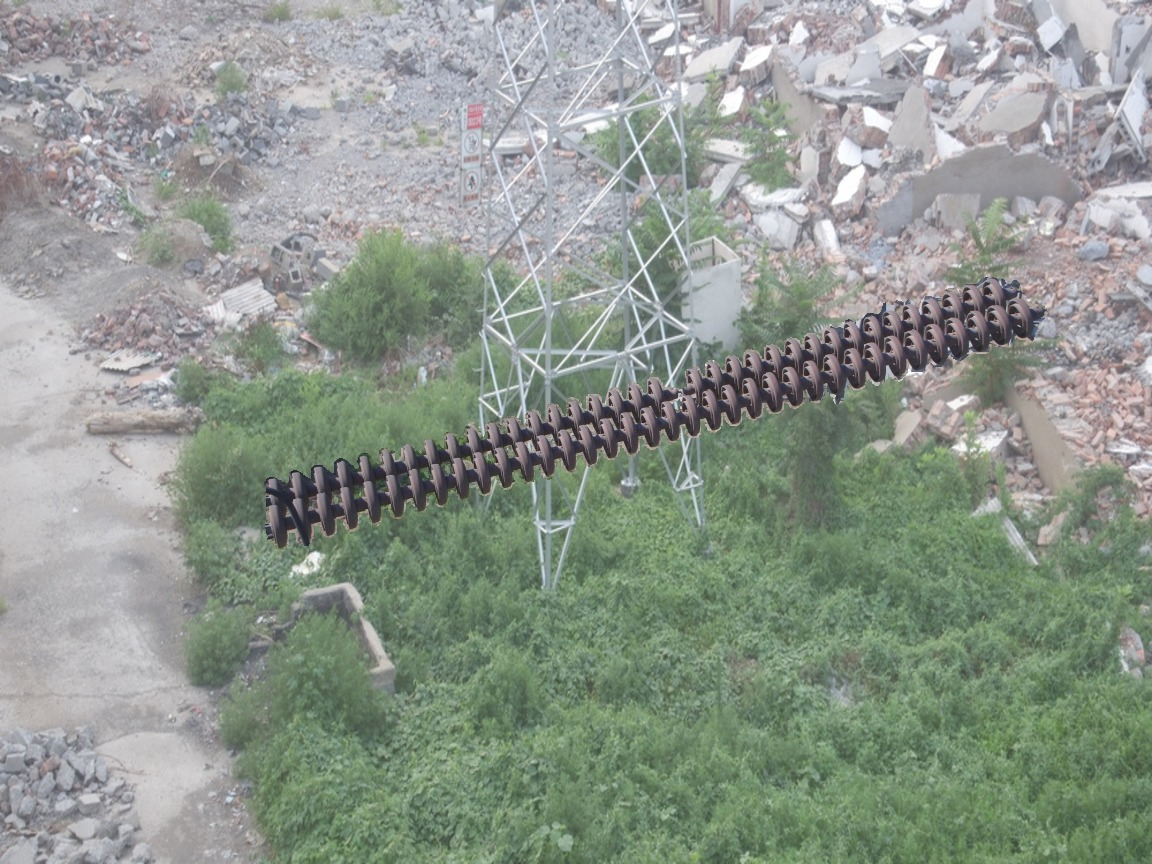defect: (646, 365, 710, 411)
